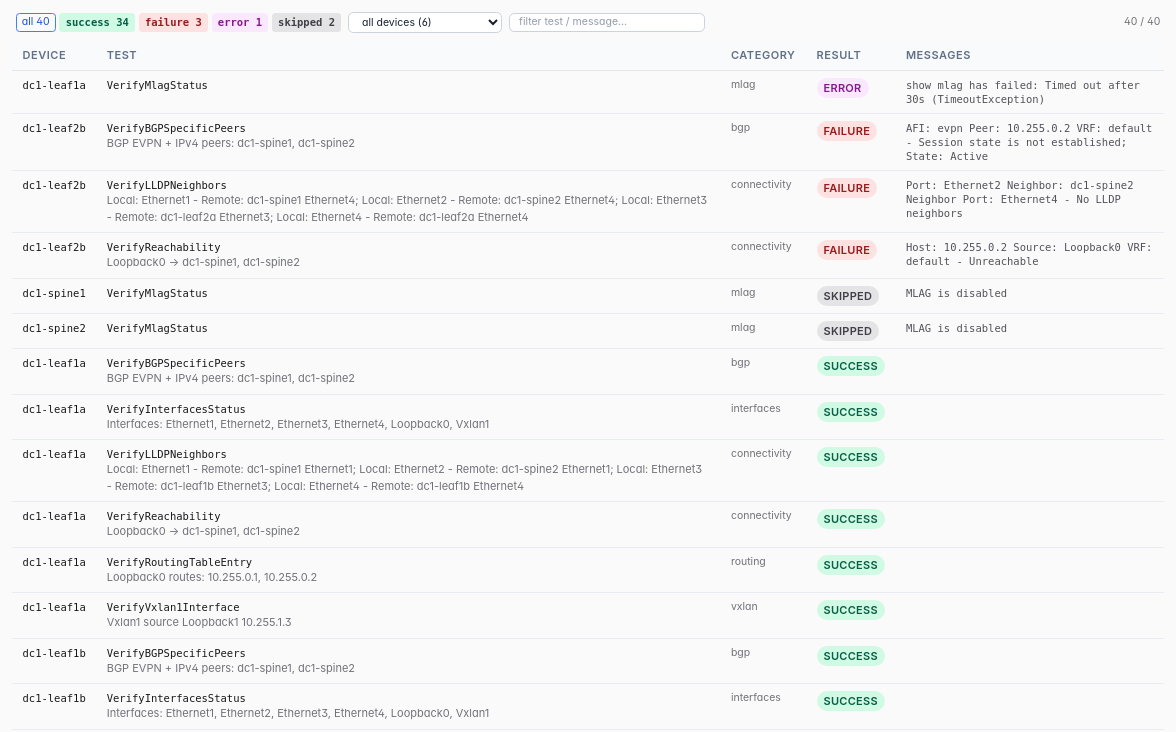
Test case: ValidationResults table › filters by free text
This screenshot has width=1176, height=732.
Type "timed out" into the field named "text filter" at (607, 22), box [509,12,705,32]
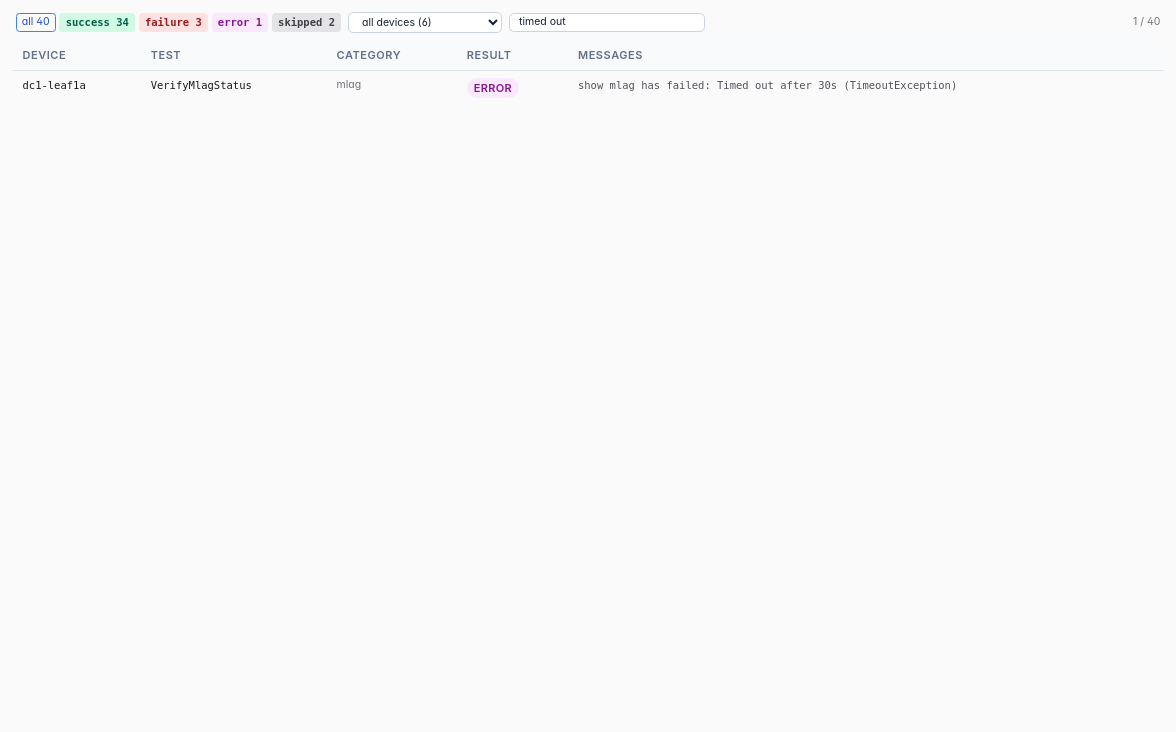
Expected: the row with test id "result-row" shows "VerifyMlagStatus", [151,79,252,91]
Result: the number of rows with test id "result-row" is 1 at [12,70,1164,105]
